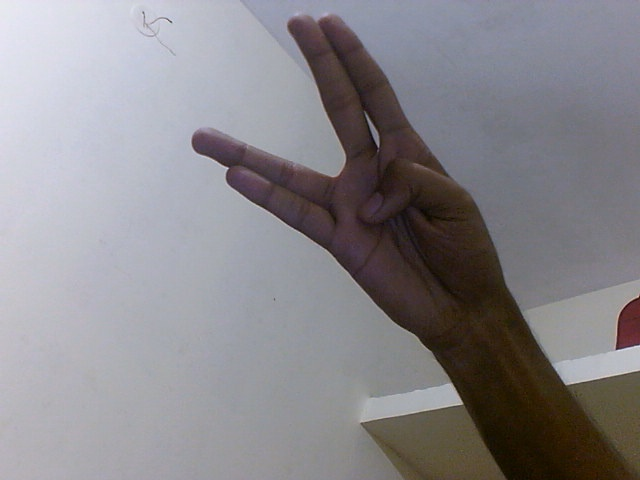hand: (186, 12, 517, 340)
